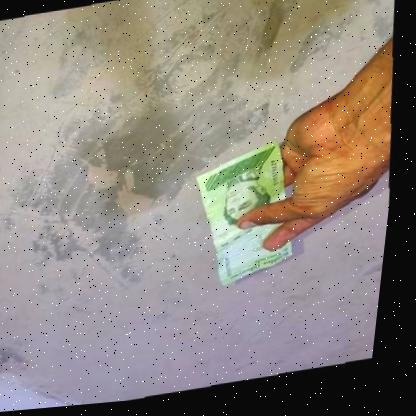fifty-front-vef: (188, 141, 312, 296)
